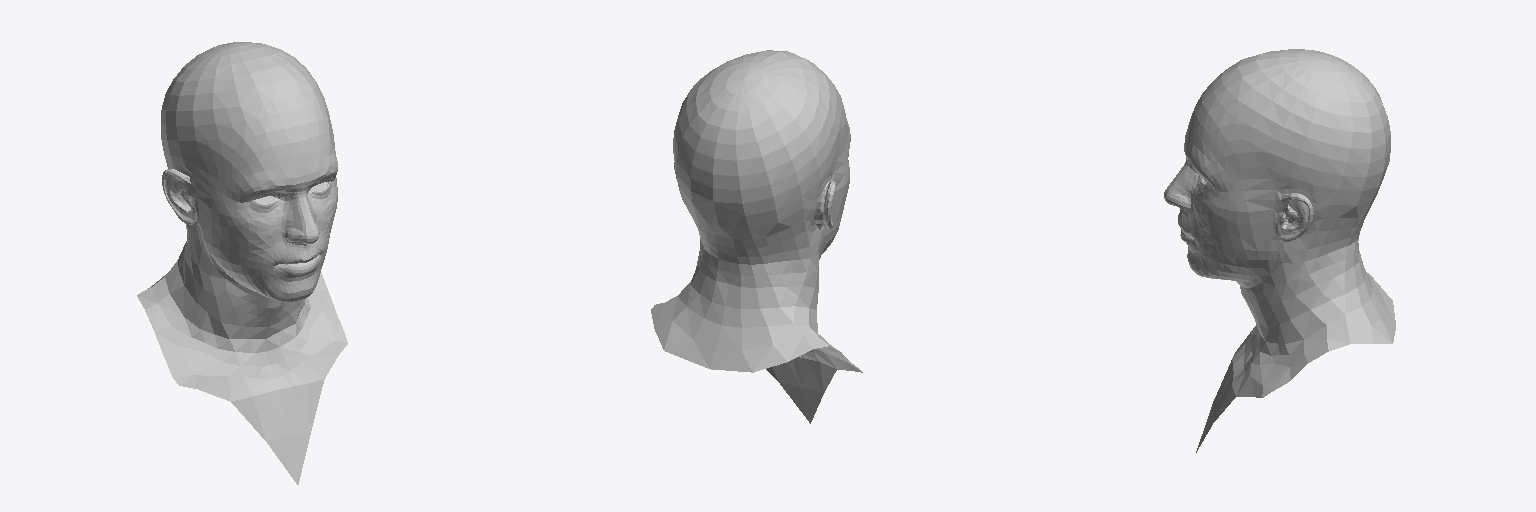
Rendered from HEAD.obj.
3 renders of one model, left to right at view 1: azimuth 30°, elevation 25°; view 2: azimuth 150°, elevation 25°; view 3: azimuth 270°, elevation 25°, orthographic.
Parts seen in each view (by area): view 1: Wrapping; view 2: Wrapping; view 3: Wrapping.
Boxes of the visible parts, x1=… form: Wrapping: x1=137, y1=42, x2=347, y2=484; Wrapping: x1=651, y1=50, x2=862, y2=423; Wrapping: x1=1164, y1=49, x2=1395, y2=452.
Size of the model in its own units: 0.1997 by 0.4296 by 0.2274.